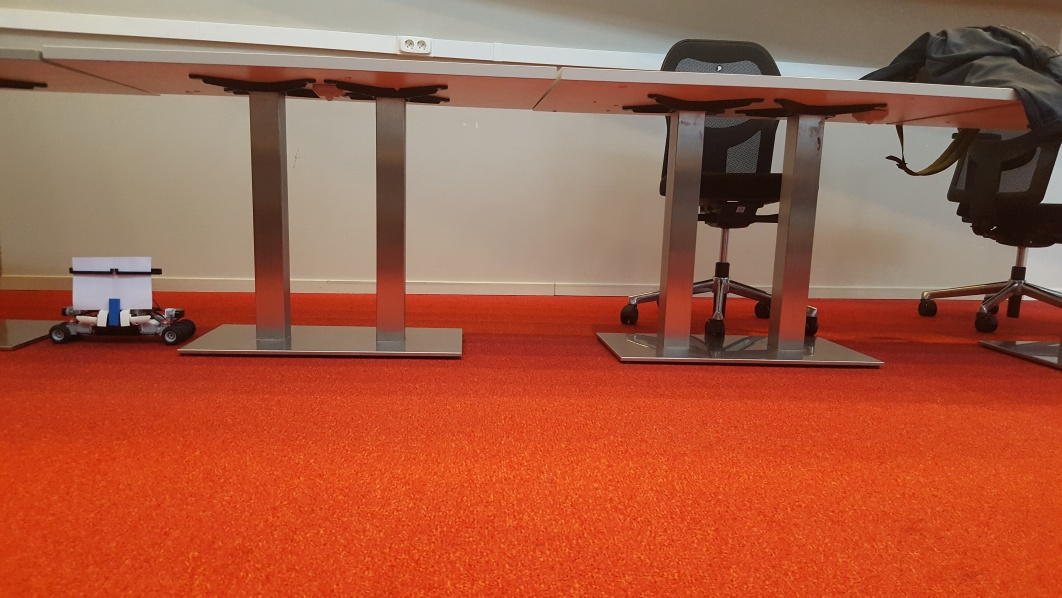car: (49, 254, 198, 347)
